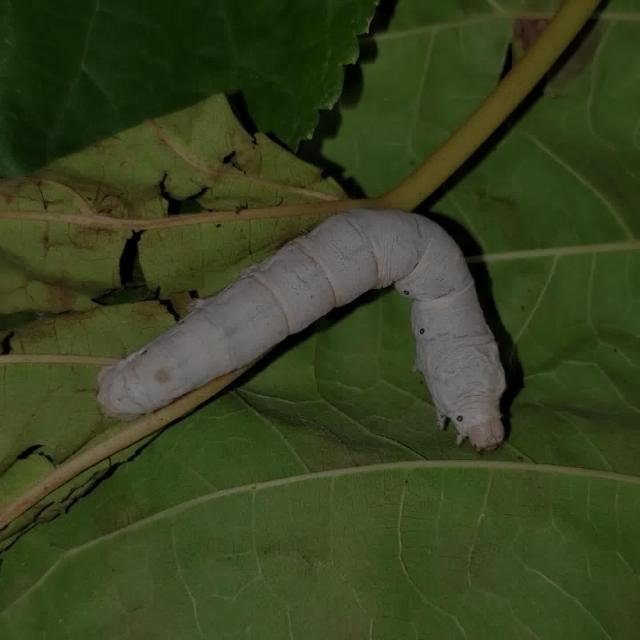Healthy: (62, 190, 550, 474)
